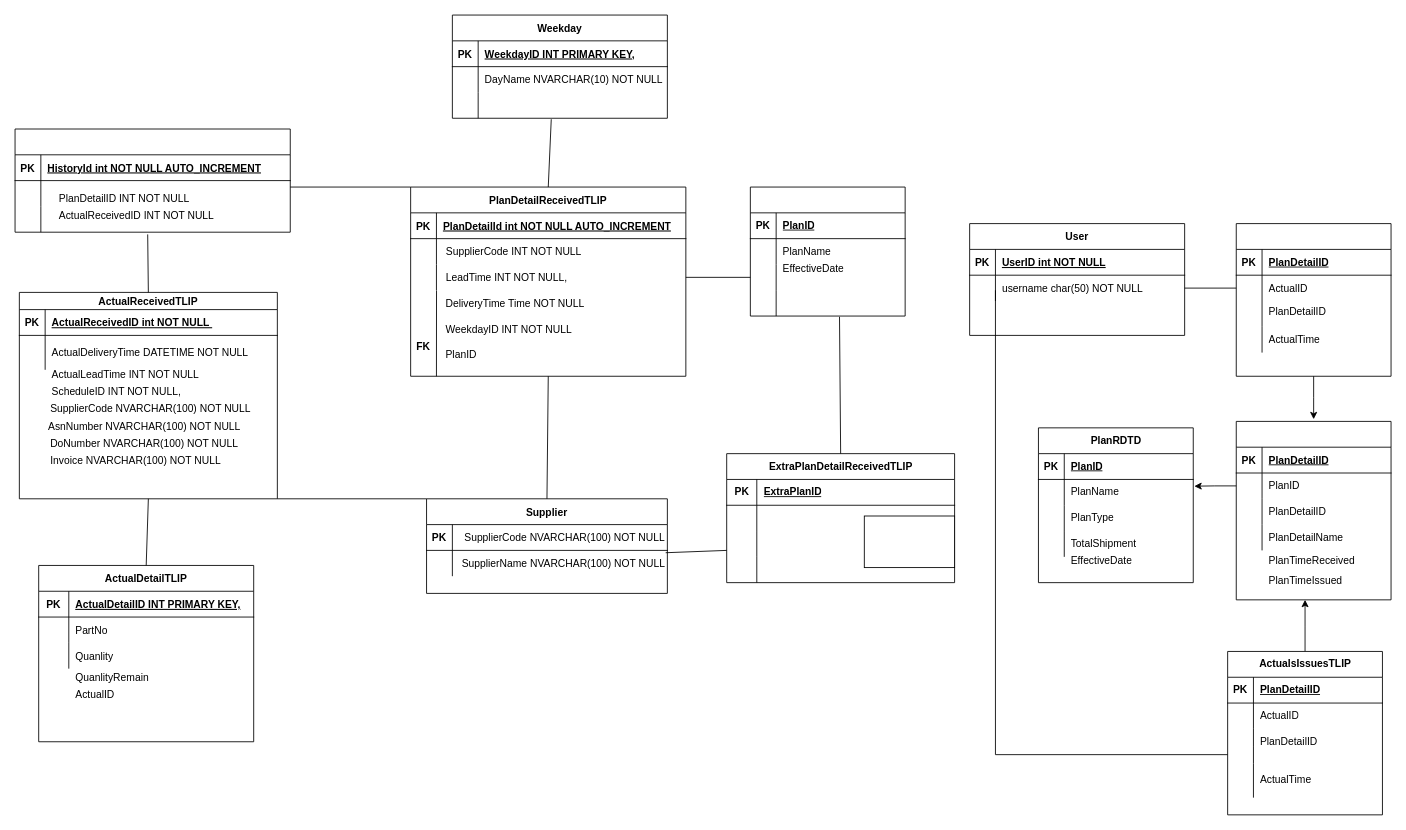
This 1406x830 diagram has some shape labels left out. The box of each missing label's shape, as (x1, y1, x2, y2) in pixels:
ActualsReceiveDenso: (1235, 223, 1391, 376)
Bảng này đang đợi logic và clear concept về việc thêm chuyến trong 1 ngày: (863, 515, 955, 568)
HistoryPlanReceivedTLIP: (14, 128, 290, 232)
PlanRDTDDetails: (1235, 421, 1391, 600)
PlanReceiveTLIP: (749, 186, 905, 316)
